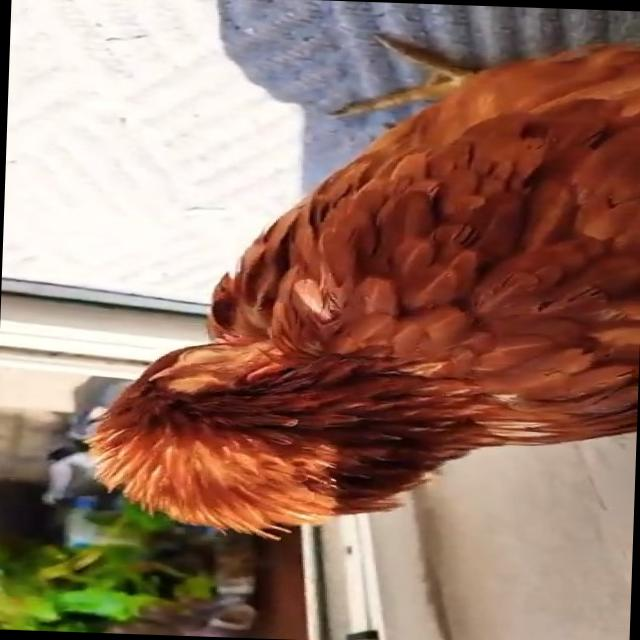self preening: (84, 26, 640, 555)
